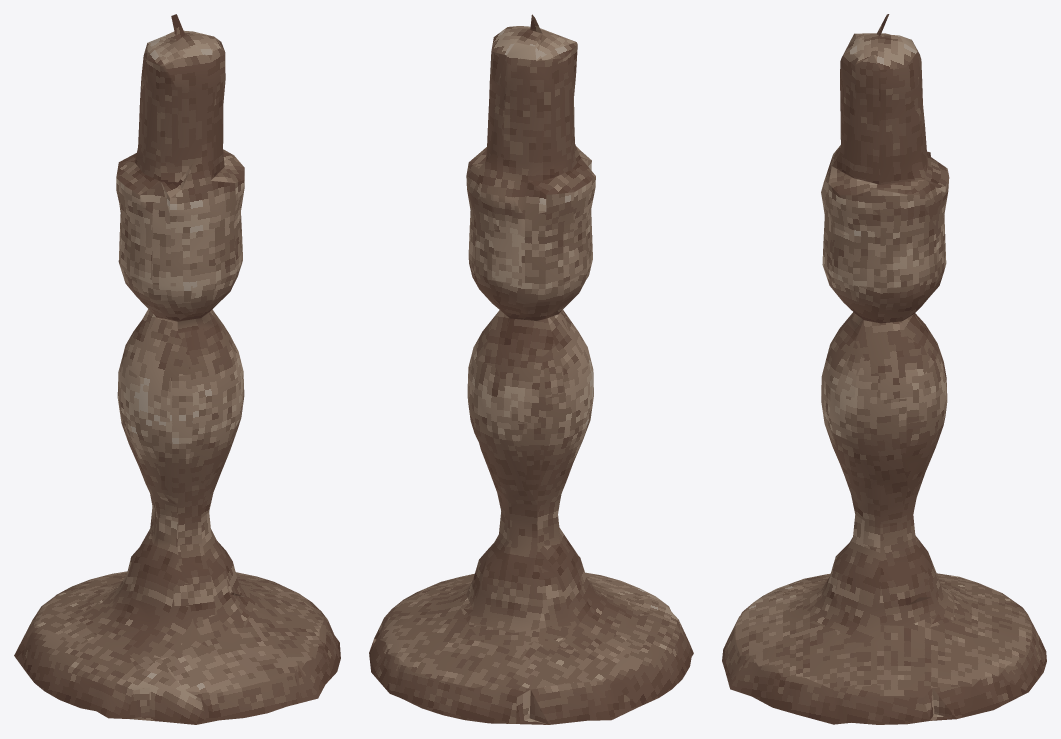
File: wooden_candlestick.glb
The picture shows the model from 3 angles, left to right: view 1: azimuth 30°, elevation 25°; view 2: azimuth 150°, elevation 25°; view 3: azimuth 270°, elevation 25°; orthographic projection.
Parts seen in each view (by area): view 1: mesh; view 2: mesh; view 3: mesh.
Part boxes in pixels (x1,y1,x2,y2): mesh: [14, 14, 340, 724]; mesh: [369, 14, 693, 724]; mesh: [722, 14, 1046, 724].
Size of the model in its own units: 7.91 by 17.57 by 8.03.
Materials: 1 (1 with a texture image).
